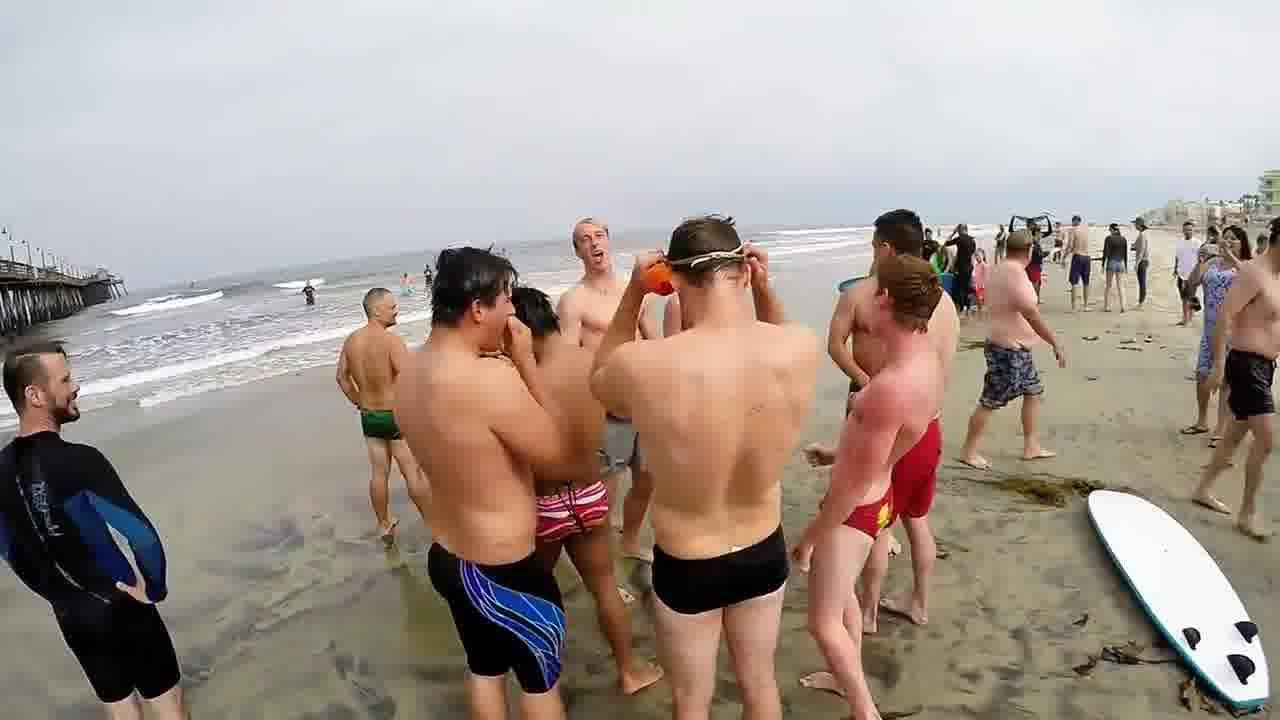swimmer: (292, 275, 320, 302)
